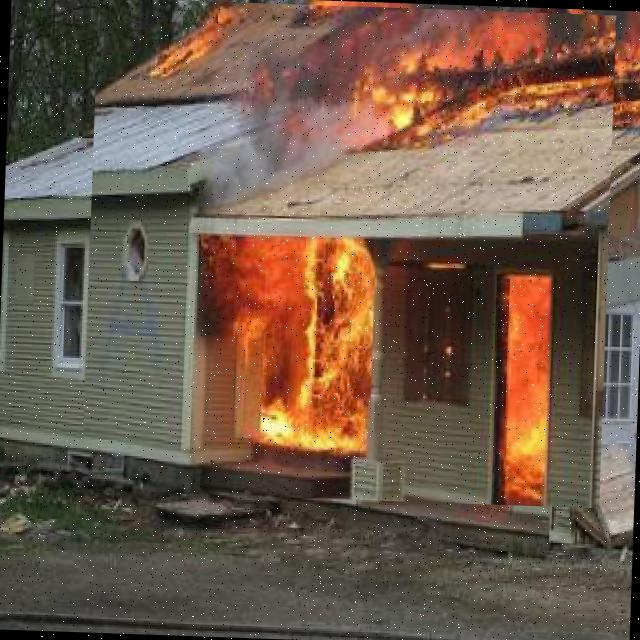fire: (81, 0, 616, 508)
